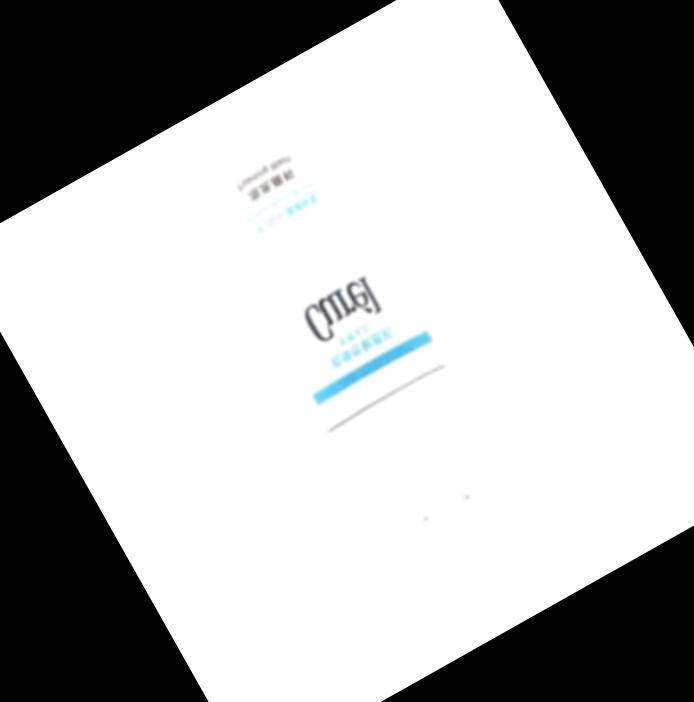cosmetic: (139, 73, 583, 641)
